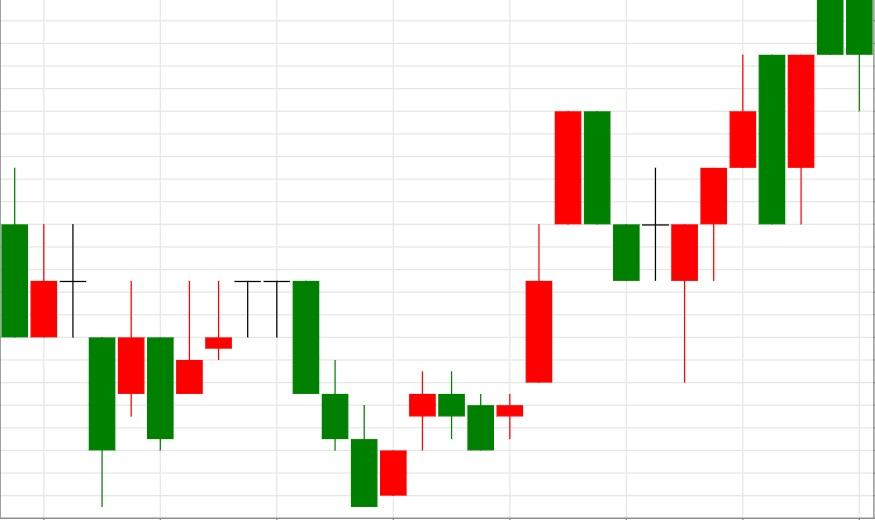three_black_crows_fall: (87, 279, 379, 507)
three_white_soldiers_rise: (554, 53, 758, 384)
